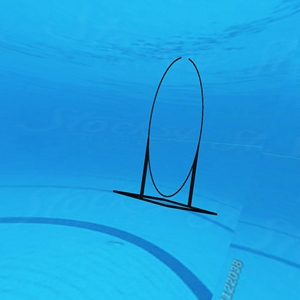circle: (111, 56, 219, 219)
